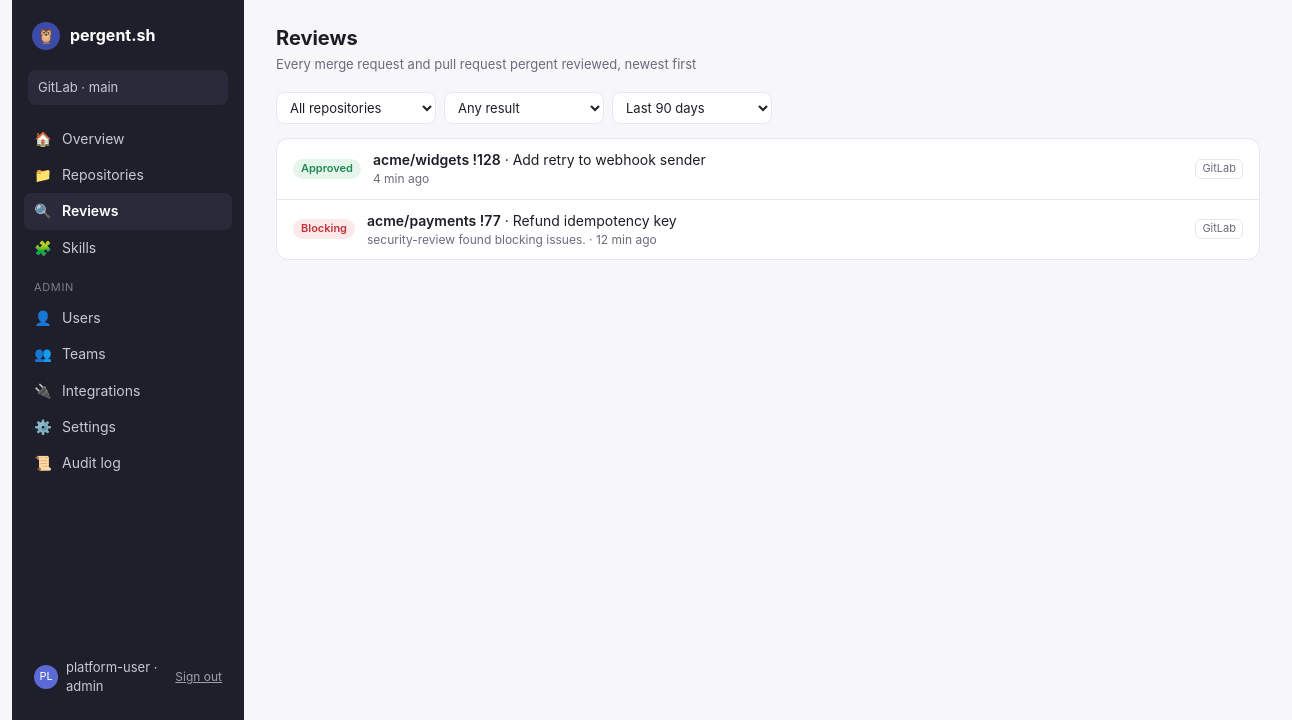
Reviews › filters by repository, outcome and time
Expected: the link "acme/widgets !128 · Add retry to webhook sender" is shown, top-left (373, 151), bottom-right (706, 168)
Step 1. Select "acme/payments" in the dropdown named "Repository" → (356, 108), box top-left (276, 92), bottom-right (436, 124)
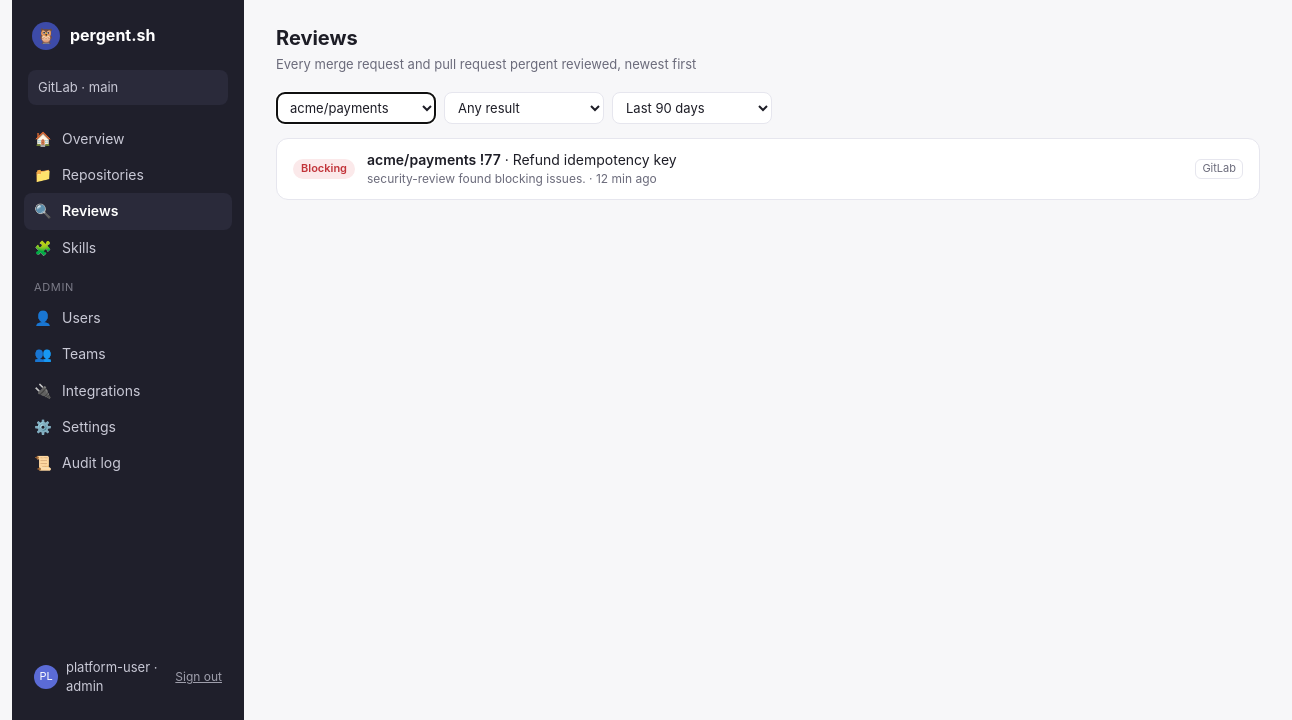
Step 2. Select "Blocking" in the dropdown named "Result" → (524, 108), box top-left (444, 92), bottom-right (604, 124)
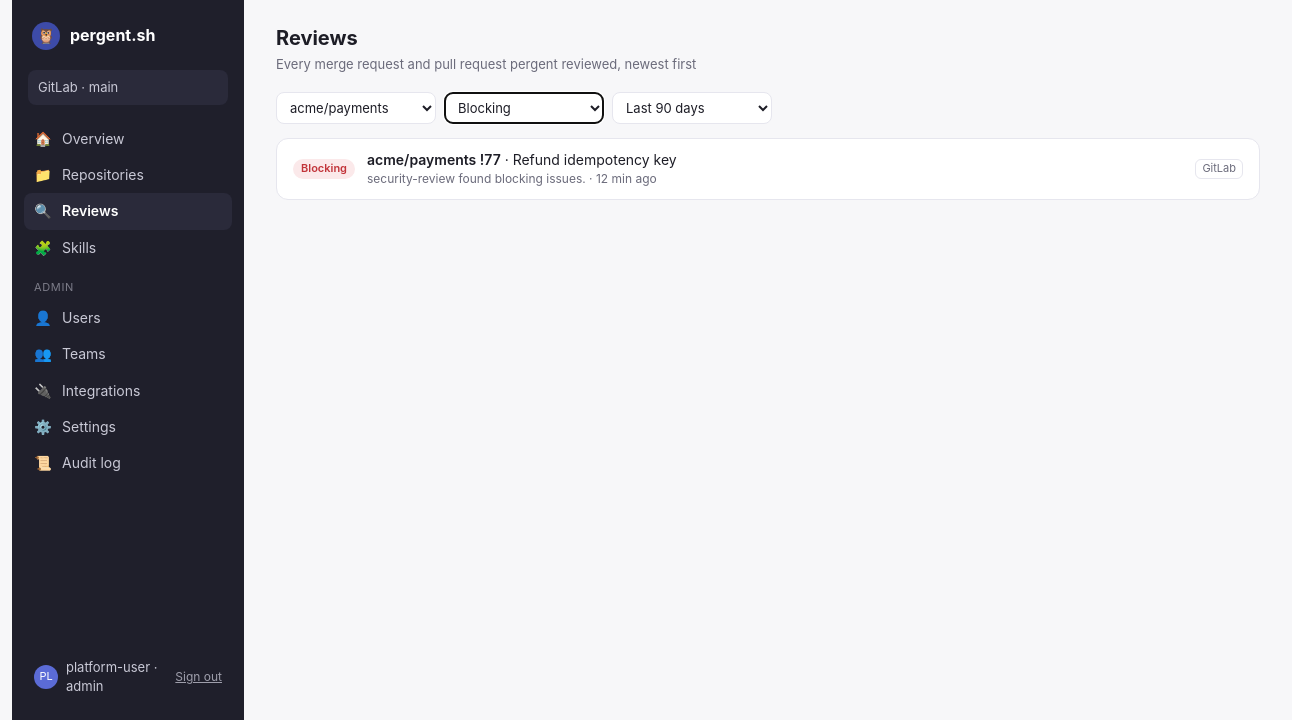
Step 3. Select "Last 7 days" in the dropdown named "Time" → (692, 108), box top-left (612, 92), bottom-right (772, 124)
(page scrolled)
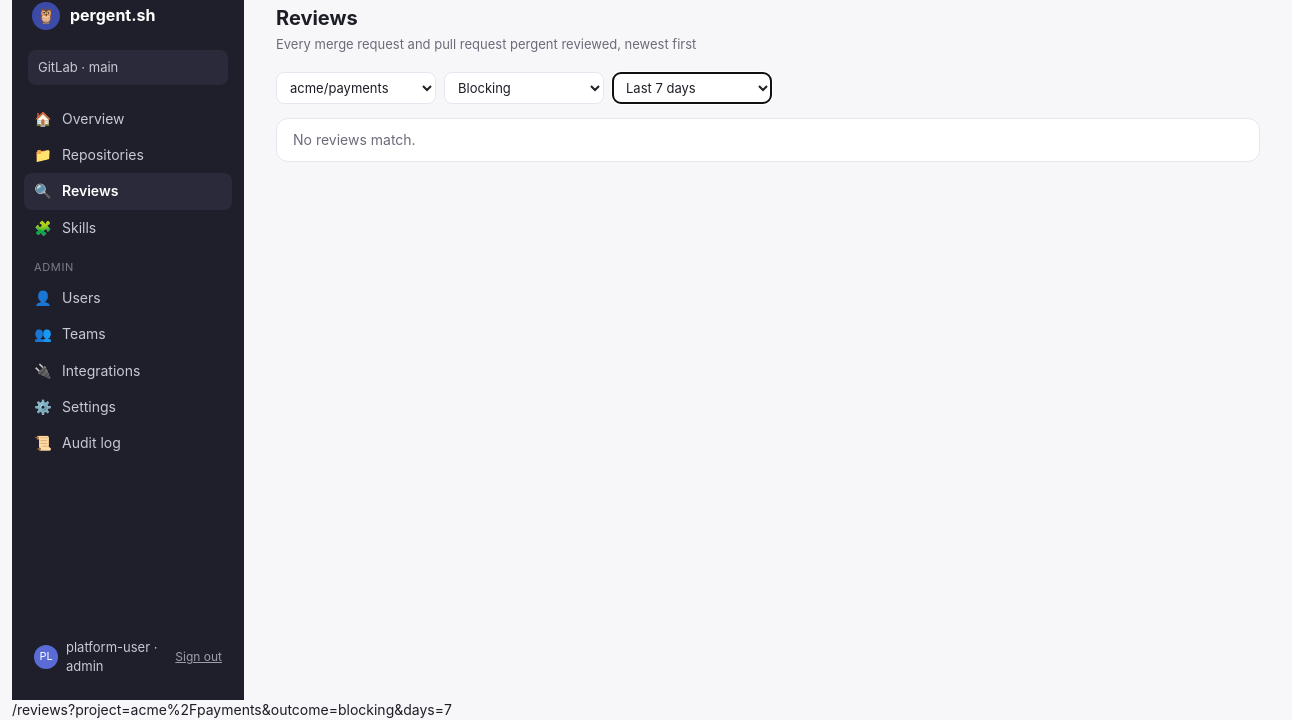
Expected: the text "No reviews match." is shown, top-left (293, 131), bottom-right (416, 148)
Expected: the text with test id "location" reads "/reviews?project=acme%2Fpayments&outcome=blocking&days=7", top-left (12, 701), bottom-right (452, 718)
